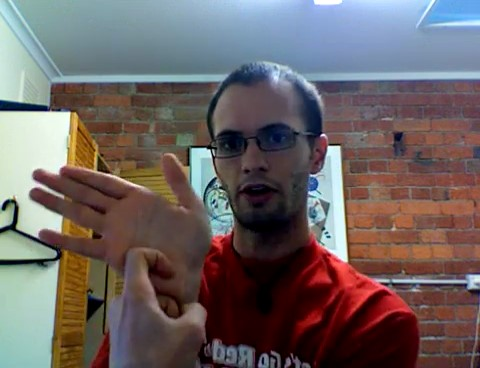R: (23, 149, 221, 368)
